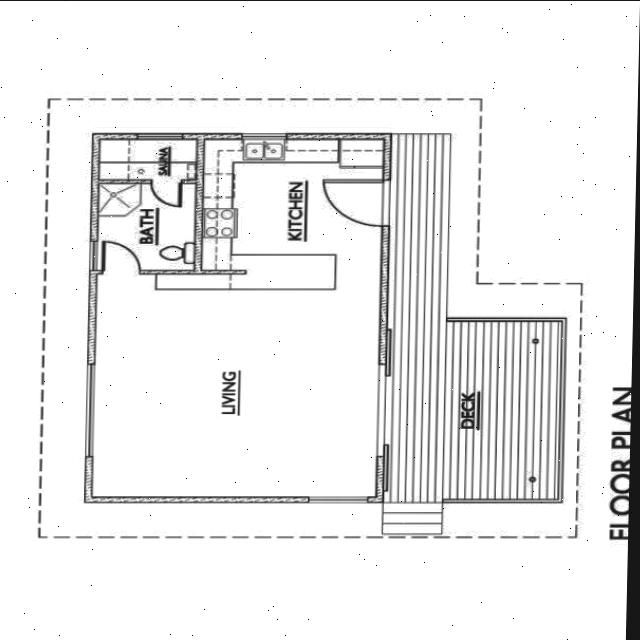room: (92, 133, 383, 502), (97, 183, 196, 269), (99, 139, 196, 178)
